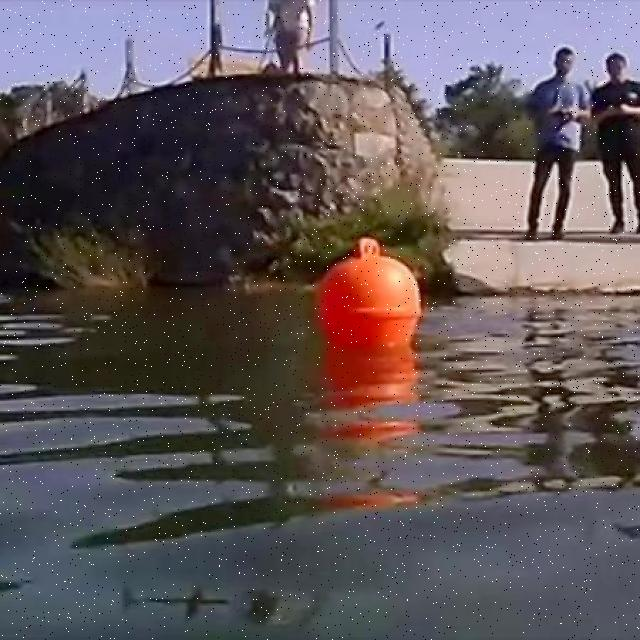buoy: (316, 238, 422, 345)
